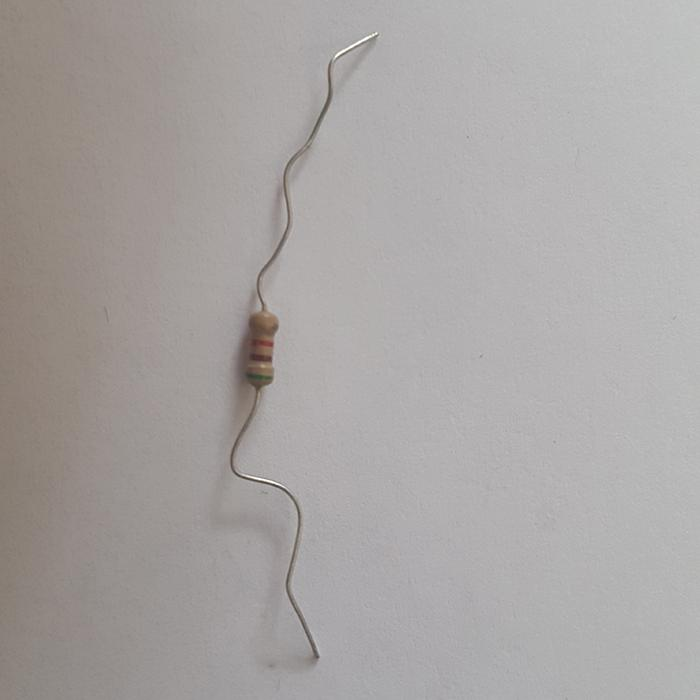resistor: (245, 307, 278, 386)
